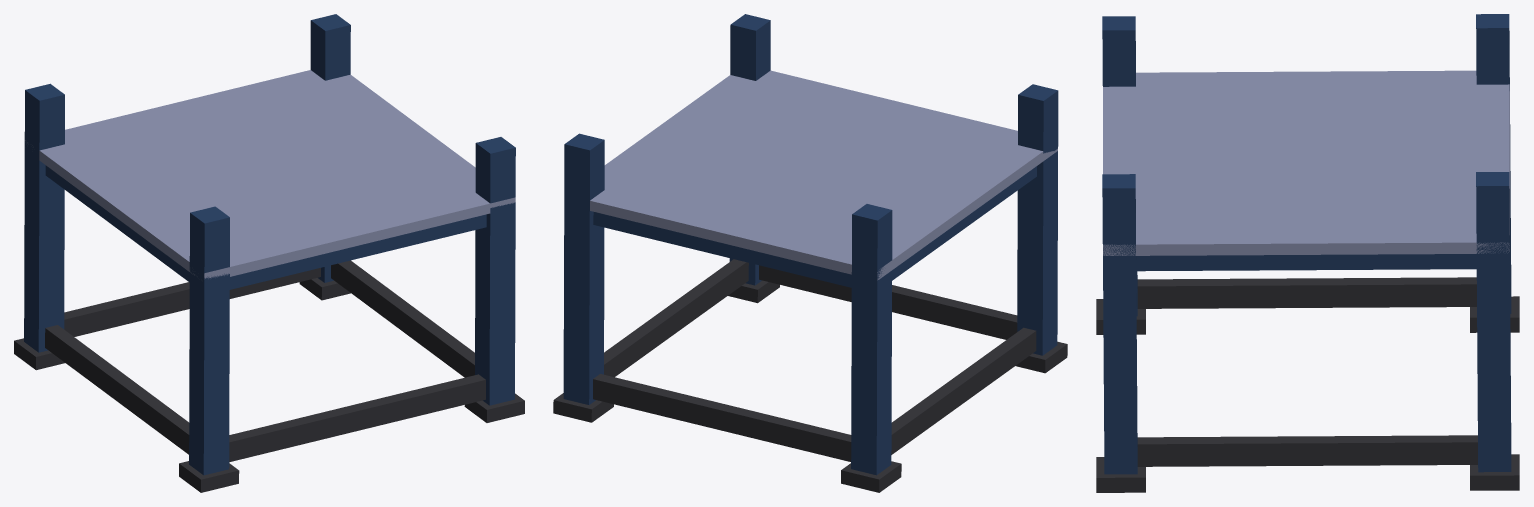
Rendered from empty-shelf.obj.
3 views of the same model, side by side, from view 1: azimuth 30°, elevation 25°; view 2: azimuth 150°, elevation 25°; view 3: azimuth 270°, elevation 25° (orthographic). The views are drawn at different scales.
Parts seen in each view (by area): view 1: Rak_Kardus_Kosong; view 2: Rak_Kardus_Kosong; view 3: Rak_Kardus_Kosong.
Boxes of the visible parts, <box> form: Rak_Kardus_Kosong: <box>14,14,524,492</box>; Rak_Kardus_Kosong: <box>553,14,1067,492</box>; Rak_Kardus_Kosong: <box>1096,14,1519,492</box>.
Size of the model in its own units: 1.02 by 0.8064 by 1.02.
